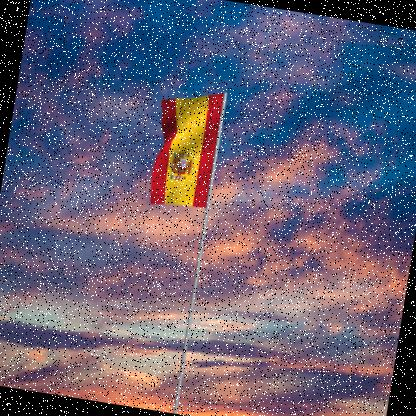es: (145, 86, 225, 215)
